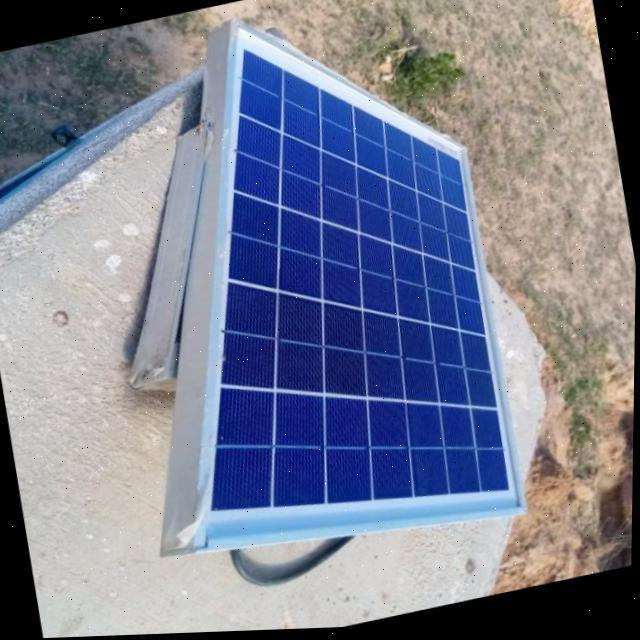Normal Solar Panel: (107, 0, 531, 581)
